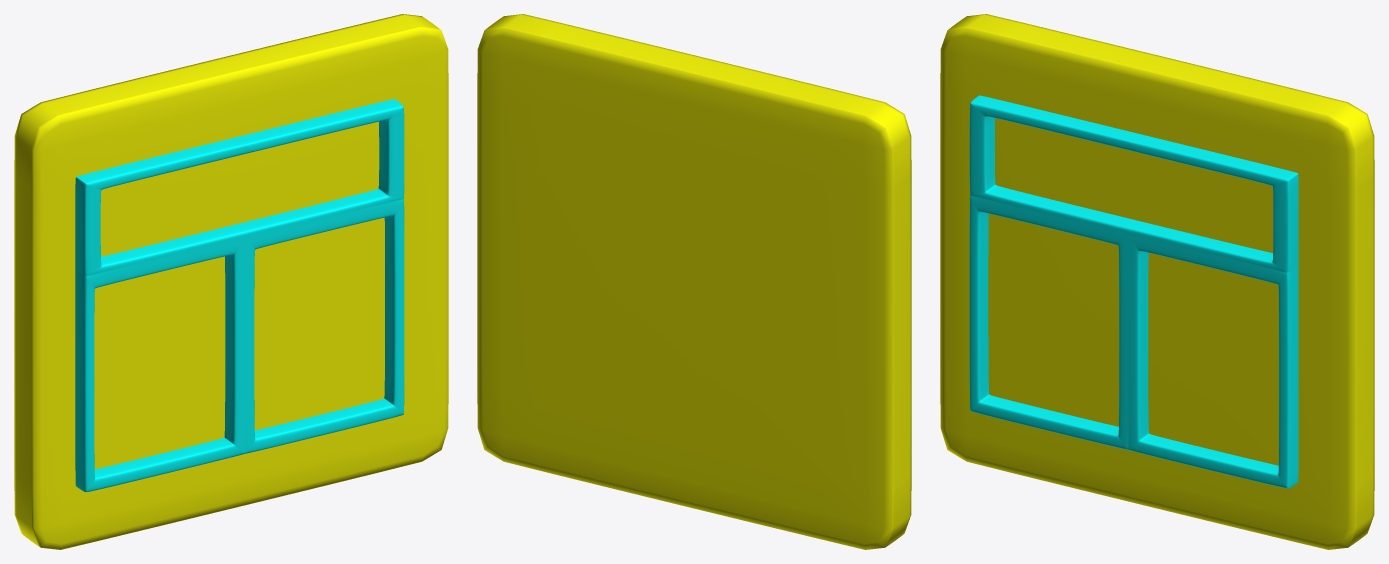
The picture shows the model from 3 angles, left to right: view 1: azimuth 30°, elevation 25°; view 2: azimuth 150°, elevation 25°; view 3: azimuth 330°, elevation 25°; orthographic projection.
Parts seen in each view (by area): view 1: polySurface1033; view 2: polySurface1033; view 3: polySurface1033.
Boxes of the visible parts, x1,y1,x2,y2 form: polySurface1033: (14, 14, 448, 549); polySurface1033: (477, 14, 911, 549); polySurface1033: (940, 14, 1374, 549).
Size of the model in its own units: 0.9994 by 0.9994 by 0.1392.
